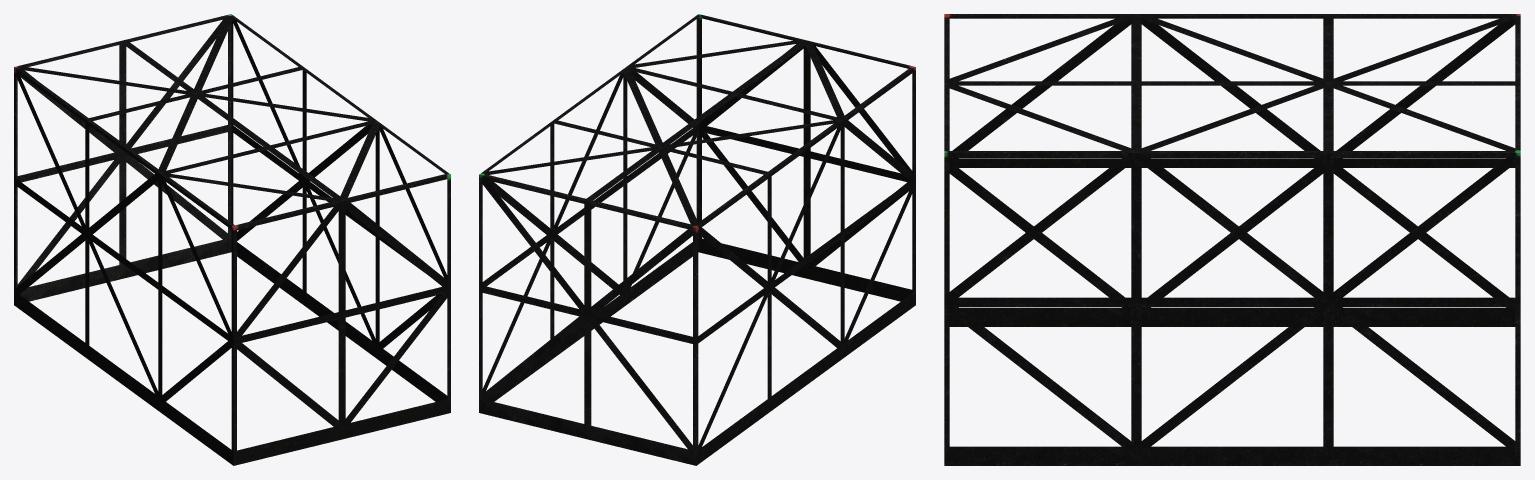
File: BuildingRama_.FBX
The picture shows the model from 3 angles, left to right: view 1: azimuth 30°, elevation 25°; view 2: azimuth 150°, elevation 25°; view 3: azimuth 270°, elevation 25°; orthographic projection. The views are drawn at different scales.
Visible parts, largest first — view 1: Box001; view 2: Box001; view 3: Box001.
Part boxes in pixels (x1,y1,x2,y2): Box001: (14,14,450,465); Box001: (479,14,915,465); Box001: (944,14,1520,465).
Size of the model in its own units: 80 by 83.87 by 140.
